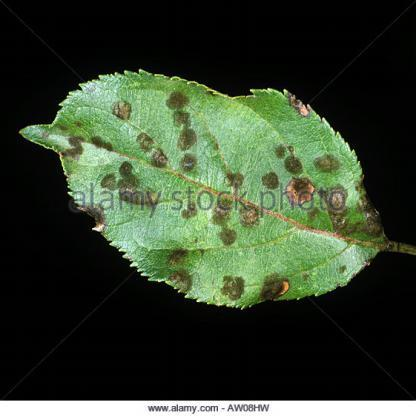Apple Scab Leaf: (43, 52, 416, 322)
